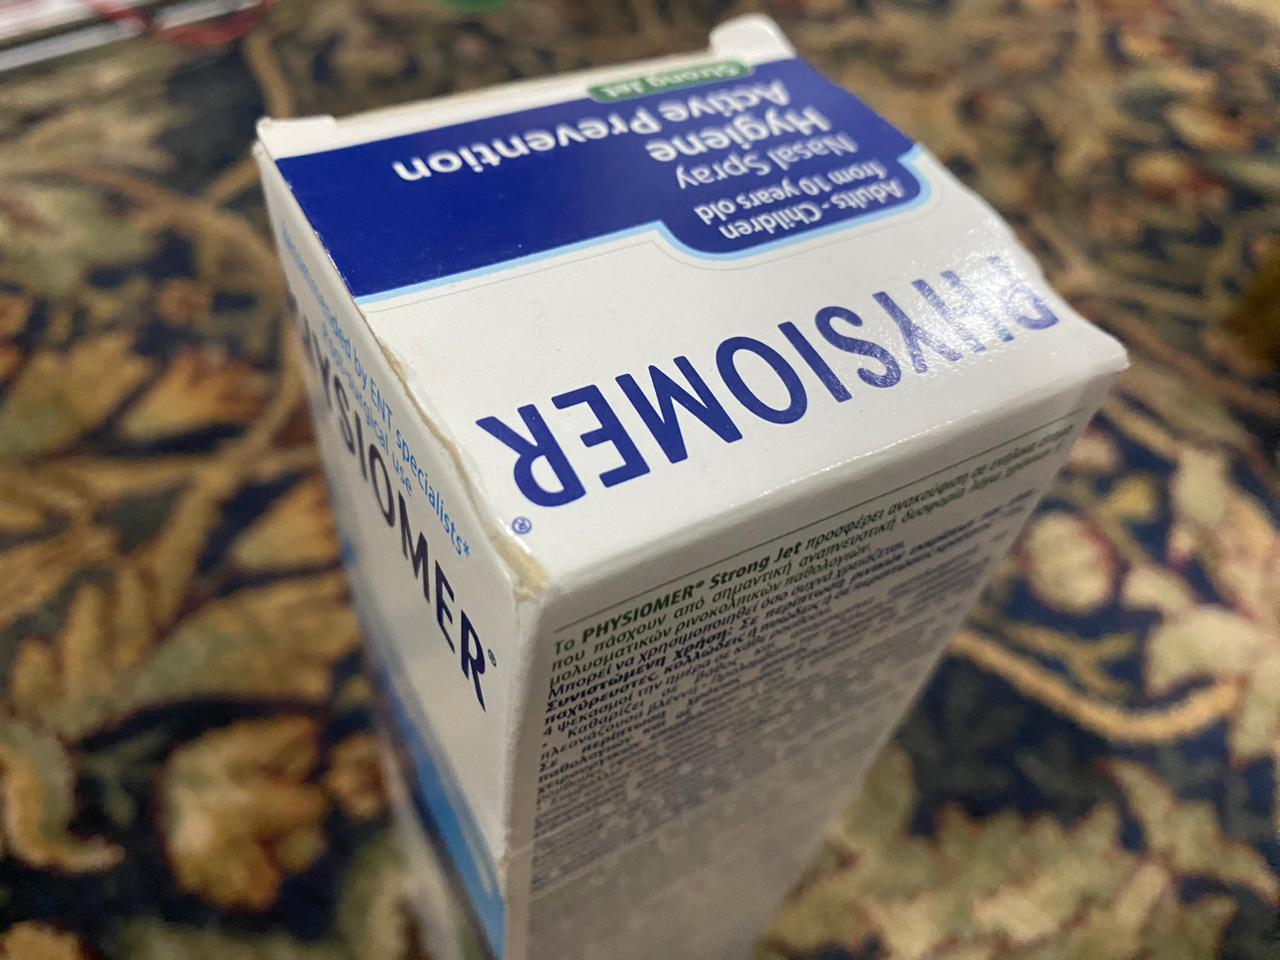Physiomer: (248, 17, 1134, 960)
